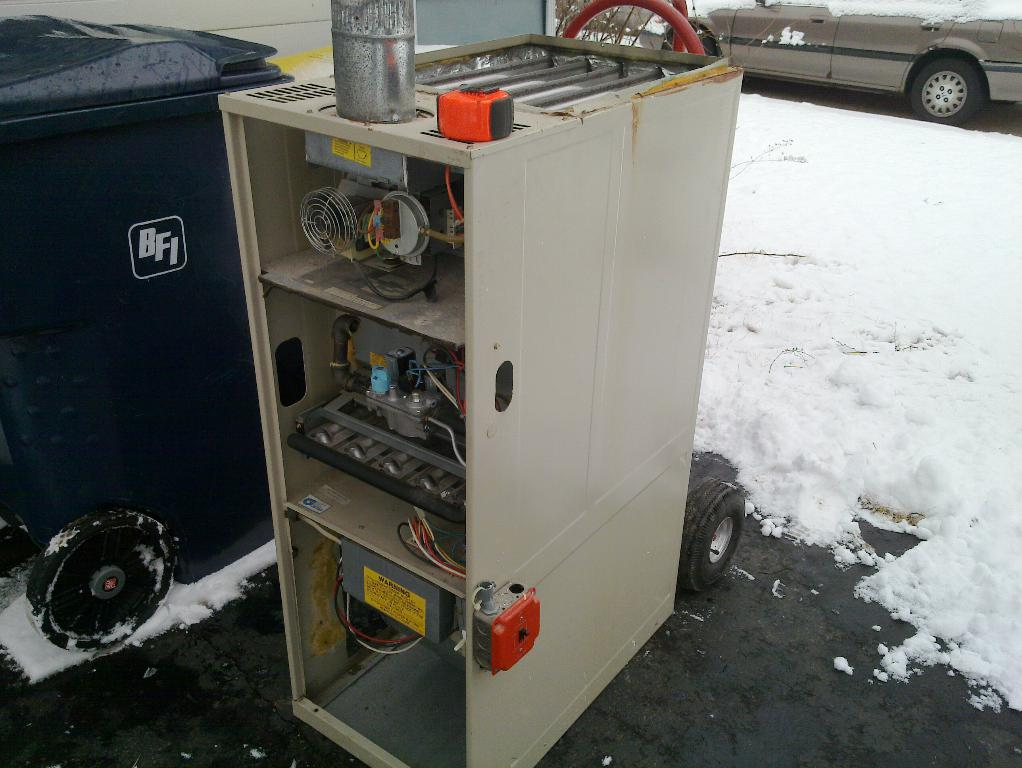Car: (719, 3, 1022, 116)
